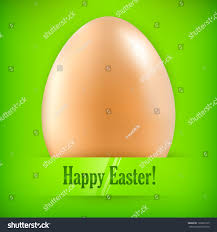egg: (42, 16, 175, 157)
